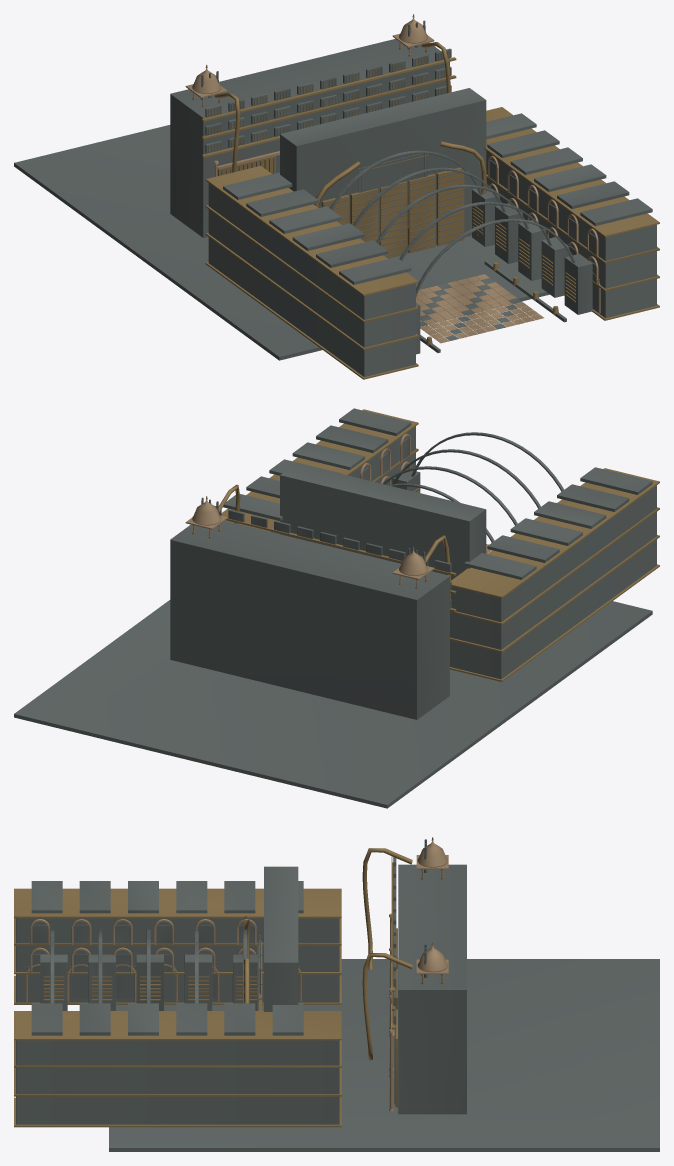
Rendered from arena-90.glb.
3 views of the same model, one above another, from view 1: azimuth 30°, elevation 25°; view 2: azimuth 150°, elevation 25°; view 3: azimuth 270°, elevation 25° (orthographic). The views are drawn at different scales.
Visible parts, largest first — view 1: correction-dark, correction-bronze, correction-sand; view 2: correction-dark, correction-bronze, correction-sand; view 3: correction-dark, correction-bronze, correction-sand.
Boxes of the visible parts, <box> form: correction-dark: <box>14,20,656,376</box>; correction-bronze: <box>192,14,659,379</box>; correction-sand: <box>185,17,600,343</box>; correction-dark: <box>14,408,656,808</box>; correction-bronze: <box>192,409,659,681</box>; correction-sand: <box>185,433,491,587</box>; correction-dark: <box>16,839,659,1151</box>; correction-bronze: <box>14,837,443,1127</box>; correction-sand: <box>26,840,448,1111</box>.
Size of the model in its own units: 65 by 26.86 by 93.8.
